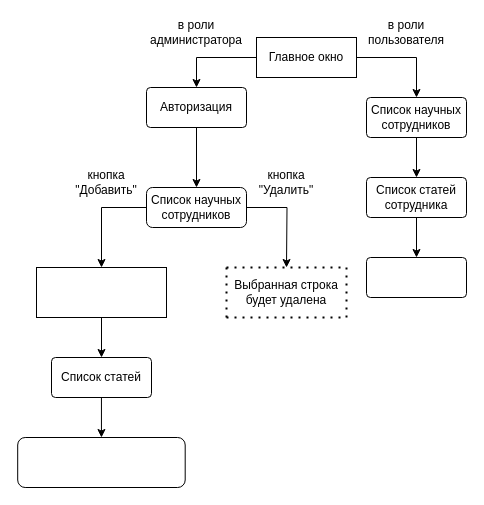
This 484x505 diagram has some shape labels left out. The box of each missing label's shape, as (x1, y1, x2, y2) in pixels:
Окно для добавления наименования статьи и добавления её содержания: (17, 436, 185, 488)
Окно для добавления нового научного сотрудника: (36, 266, 166, 318)
Содержание статьи: (366, 256, 466, 298)
